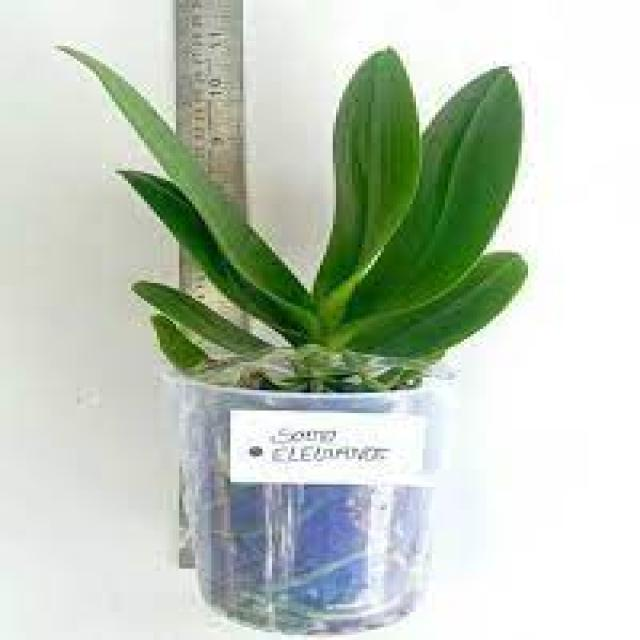leaf: (58, 46, 317, 329), (342, 65, 521, 327), (122, 171, 304, 344), (314, 48, 416, 309), (352, 252, 525, 354), (134, 280, 266, 352)
plant: (33, 22, 581, 635)
pot: (124, 345, 496, 637)
